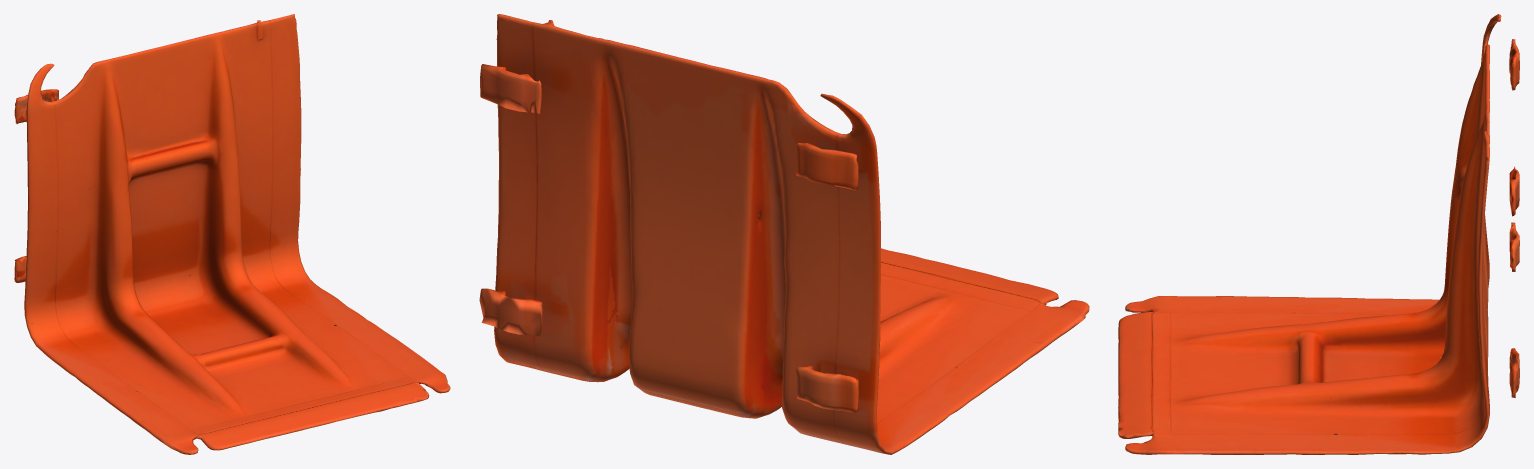
The model's file is barrier.fbx.
3 views of the same model, side by side, from view 1: azimuth 30°, elevation 25°; view 2: azimuth 150°, elevation 25°; view 3: azimuth 270°, elevation 25° (orthographic). The views are drawn at different scales.
Visible parts, largest first — view 1: Mesh0; view 2: Mesh0; view 3: Mesh0.
Part boxes in pixels (bbox=[...]): Mesh0: bbox=[14, 14, 450, 454]; Mesh0: bbox=[479, 14, 1089, 454]; Mesh0: bbox=[1118, 14, 1519, 454].
Size of the model in its own units: 1.77 by 1.59 by 1.91.
1 material, 1 textured.
